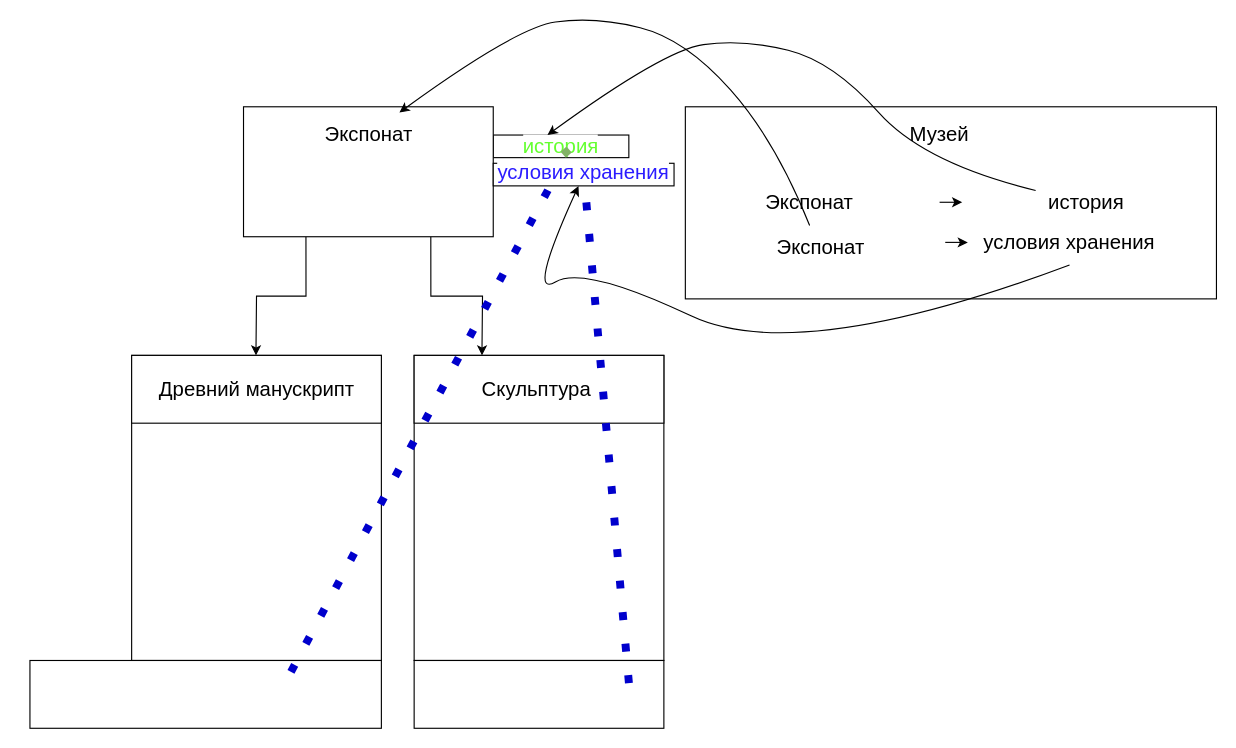
This 1236x748 diagram has some shape labels left out. The centre of each missing label's shape, as x and y in pixels:
"контроль температуры и влажности" belongs at point (205, 693).
"регулярная реставрация" belongs at point (538, 693).
